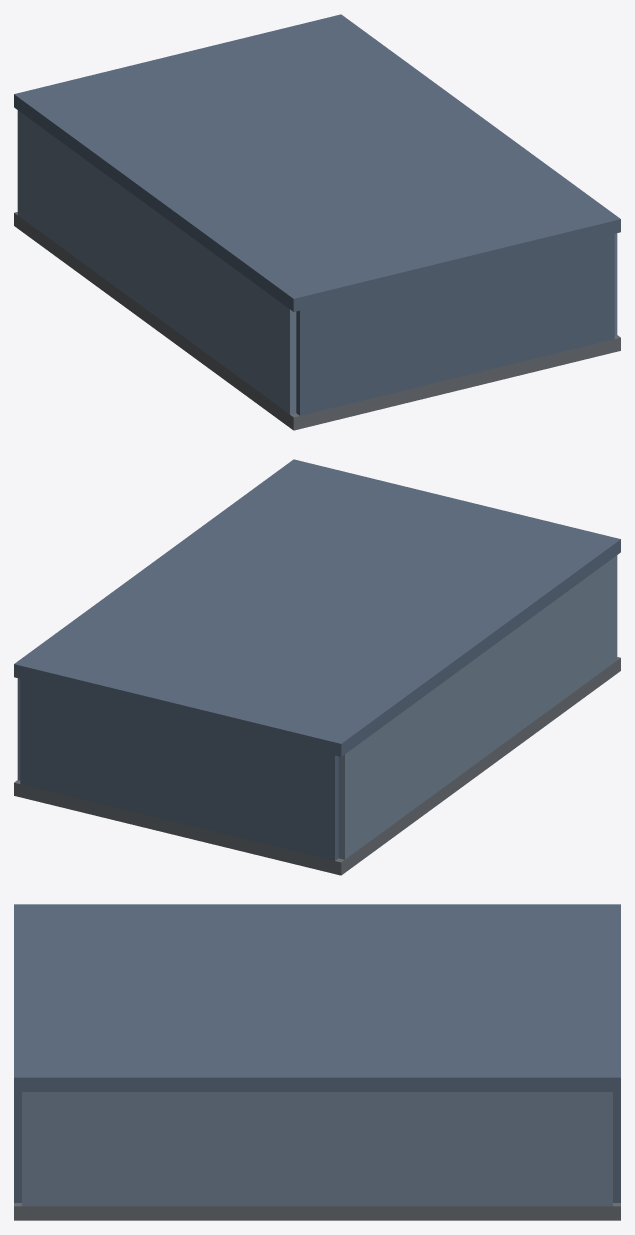
File: inside_zone_low_1.glb
The picture shows the model from 3 angles, top to bottom: view 1: azimuth 30°, elevation 25°; view 2: azimuth 150°, elevation 25°; view 3: azimuth 270°, elevation 25°; orthographic projection. The views are drawn at different scales.
Visible parts, largest first — view 1: inside_zone_low_1; view 2: inside_zone_low_1; view 3: inside_zone_low_1.
Boxes of the visible parts, x1,y1,x2,y2 form: inside_zone_low_1: [14, 14, 620, 430]; inside_zone_low_1: [14, 459, 620, 875]; inside_zone_low_1: [14, 904, 620, 1220].
Bounding box in the file's own units: 10.4 × 4 × 15.4.
